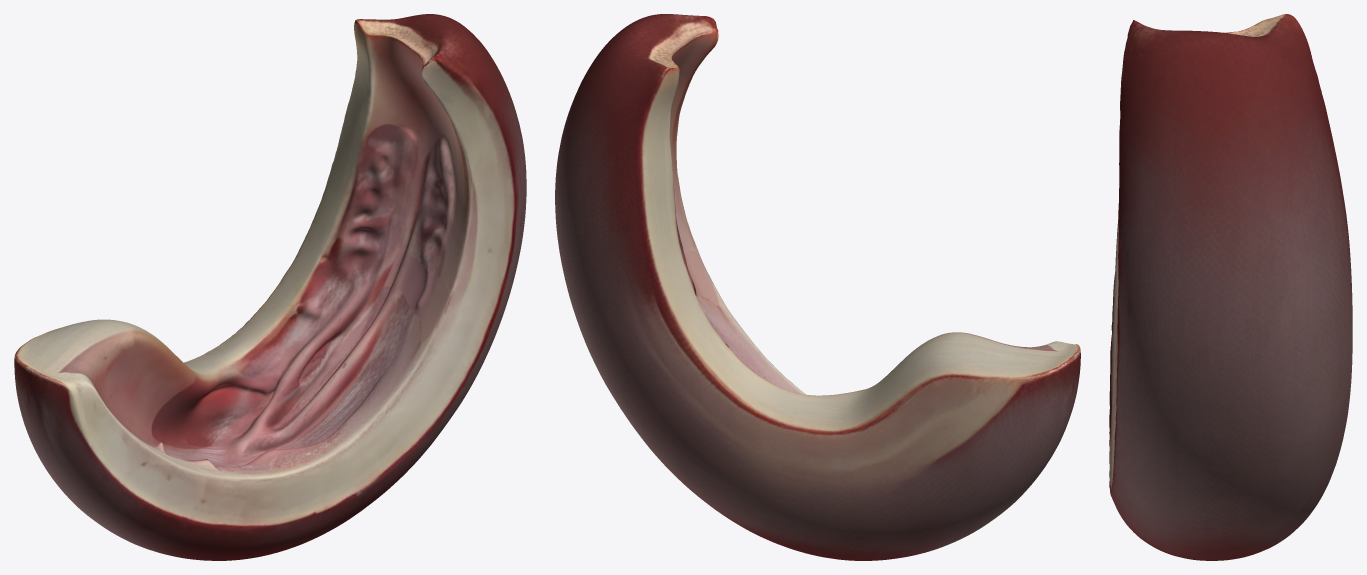
The model's file is vet_v2_organ_horse_stomach.glb.
The picture shows the model from 3 angles, left to right: view 1: azimuth 30°, elevation 25°; view 2: azimuth 150°, elevation 25°; view 3: azimuth 270°, elevation 25°; orthographic projection. The views are drawn at different scales.
Parts seen in each view (by area): view 1: model; view 2: model; view 3: model.
Boxes of the visible parts, box(x1,y1,x2,y2) form: model: box(14, 14, 526, 560); model: box(555, 14, 1080, 560); model: box(1109, 14, 1352, 560).
Bounding box in the file's own units: 1.9 × 1.75 × 0.6274.
1 material, 1 textured.
